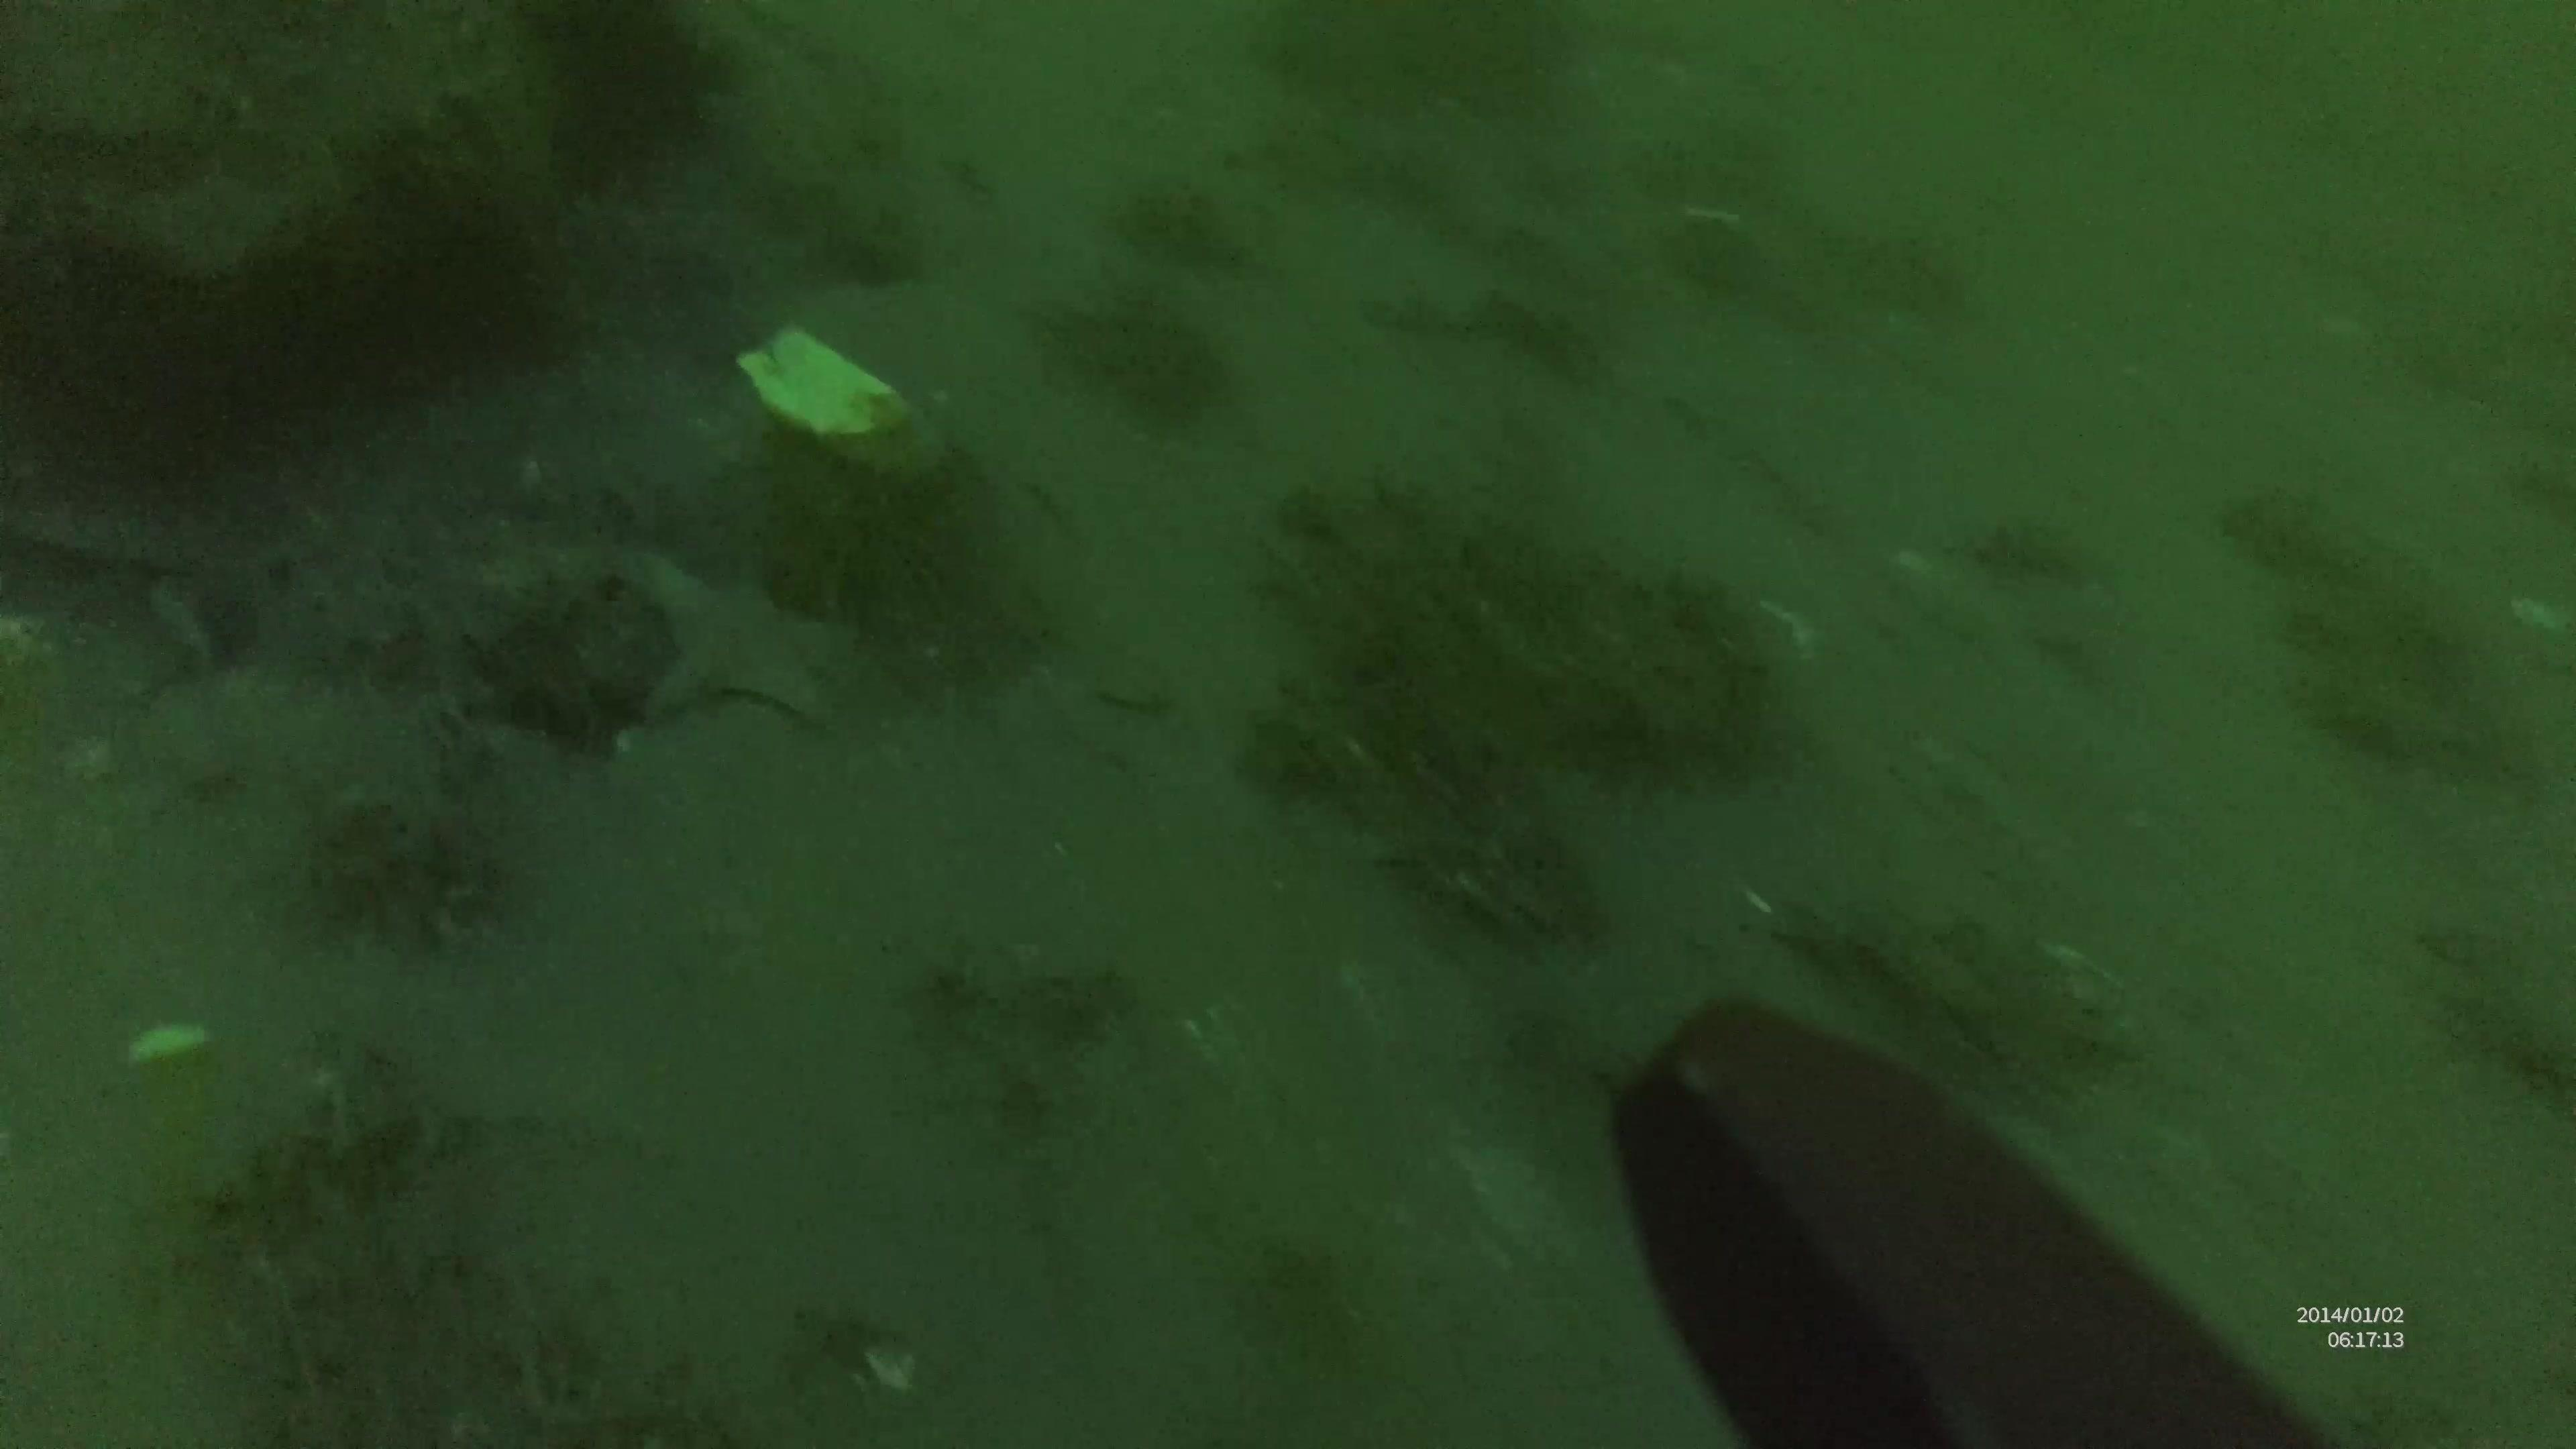starfish: (616, 552, 858, 729)
